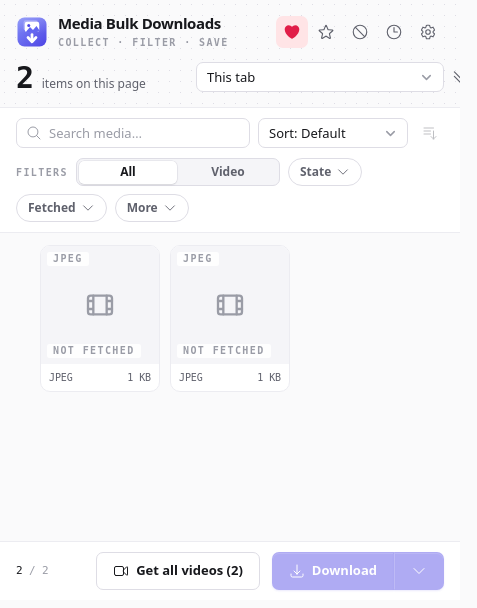
Test case: App Component › "Get all videos" resolves every pending video in one batch and makes them downloadable
The image size is (477, 608).
Check: the text "Filters" is shown, box [16, 165, 68, 180]
Click the button "Get all videos (2)" at (178, 571), box [96, 552, 260, 590]
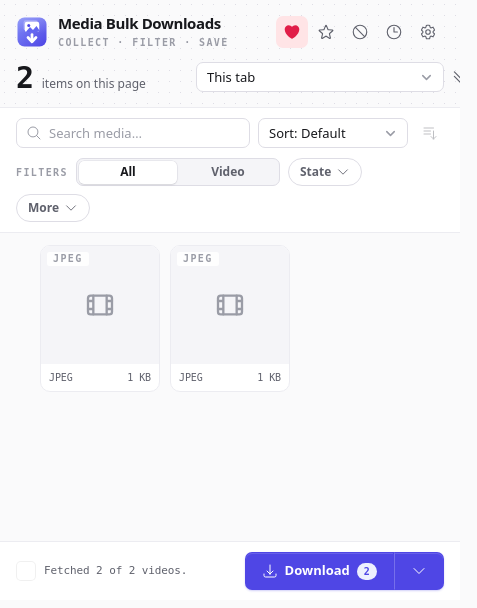
Check: the button "Download 2" is shown, box [245, 552, 394, 590]
Check: the button "Get all videos" is gone
